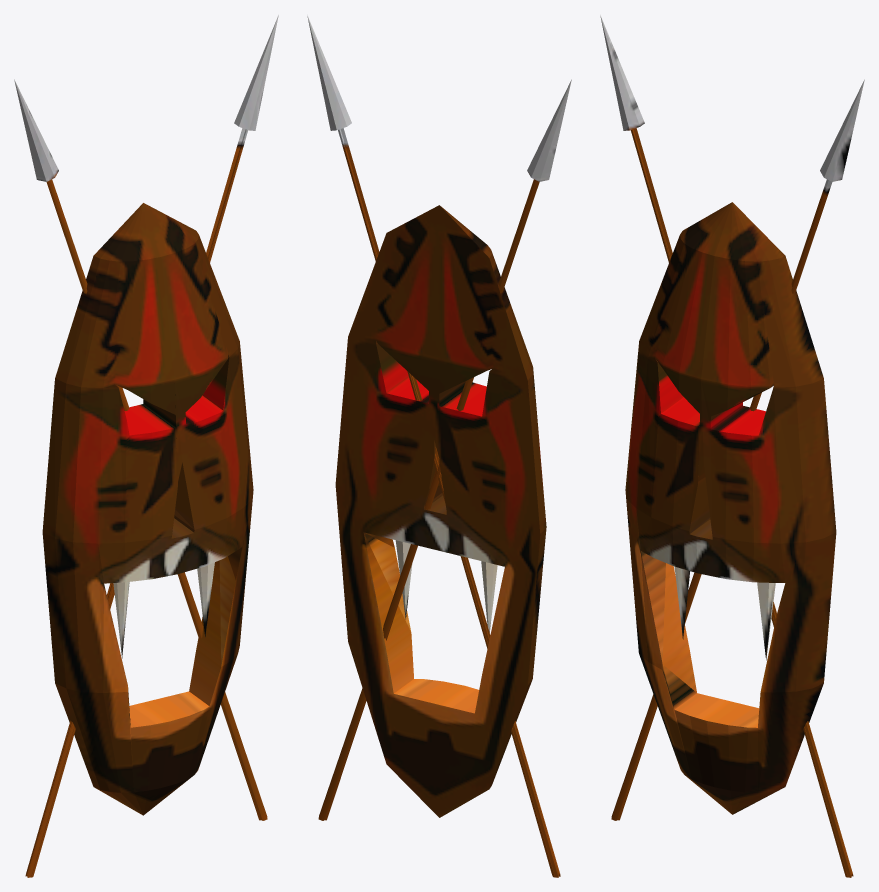
Rendered from Mask.glb.
The picture shows the model from 3 angles, left to right: view 1: azimuth 30°, elevation 25°; view 2: azimuth 150°, elevation 25°; view 3: azimuth 330°, elevation 25°; orthographic projection.
Parts seen in each view (by area): view 1: Mask; view 2: Mask; view 3: Mask.
Boxes of the visible parts, <box> form: Mask: <box>14,15,278,877</box>; Mask: <box>307,15,571,877</box>; Mask: <box>600,15,864,877</box>.
Bounding box in the file's own units: 96.82 × 280 × 25.31.
1 material, 1 textured.
